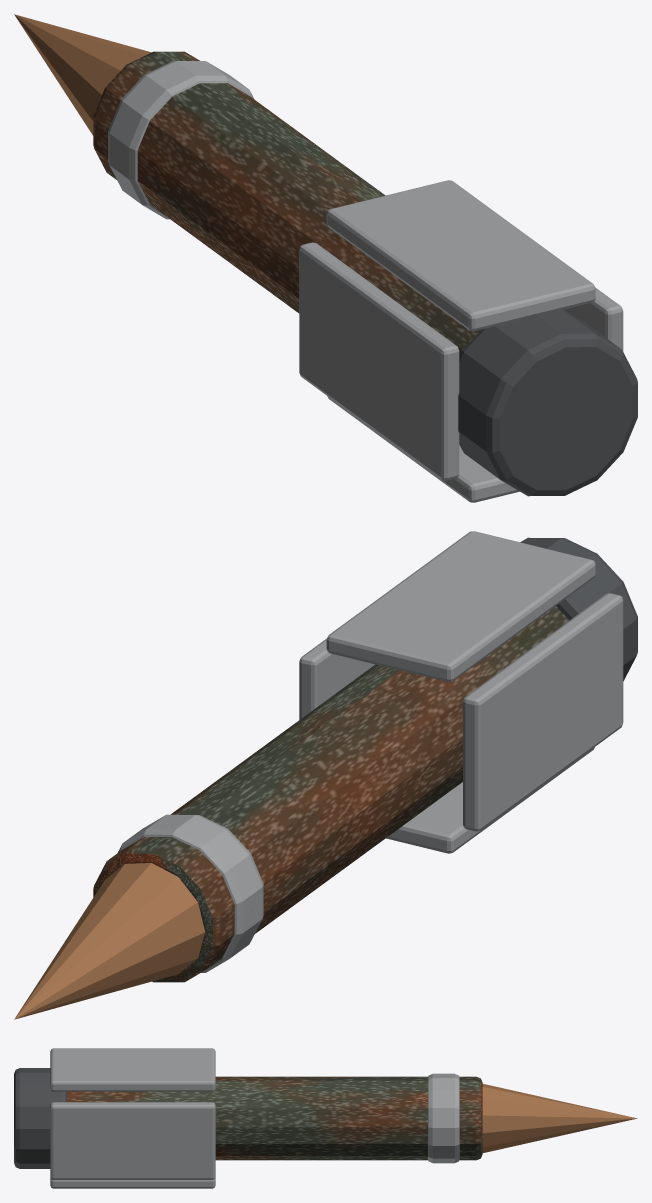
The model's file is rocket.glb.
3 renders of one model, top to bottom at view 1: azimuth 30°, elevation 25°; view 2: azimuth 150°, elevation 25°; view 3: azimuth 270°, elevation 25°, orthographic. The views are drawn at different scales.
Visible parts, largest first — view 1: Motor, Nozzle, Fin_2, Fin_1, WarheadBand, Warhead.001, Fin_3, Fin_0; view 2: Motor, Fin_2, Fin_1, Warhead.001, WarheadBand, Nozzle, Fin_3, Fin_0; view 3: Motor, Fin_0, Fin_1, Warhead.001, Nozzle, WarheadBand, Fin_3.
Part boxes in pixels (<box>): Motor: <box>93,51,481,357</box>; Nozzle: <box>458,309,637,496</box>; Fin_2: <box>299,242,459,480</box>; Fin_1: <box>326,180,595,331</box>; WarheadBand: <box>108,61,254,219</box>; Warhead.001: <box>14,14,151,135</box>; Fin_3: <box>327,396,519,502</box>; Fin_0: <box>563,287,623,351</box>; Motor: <box>93,606,569,982</box>; Fin_2: <box>463,593,623,831</box>; Fin_1: <box>326,531,595,681</box>; Warhead.001: <box>14,863,252,1019</box>; WarheadBand: <box>117,814,263,972</box>; Nozzle: <box>520,537,637,681</box>; Fin_3: <box>386,747,594,853</box>; Fin_0: <box>299,638,374,719</box>; Motor: <box>67,1076,482,1160</box>; Fin_0: <box>50,1102,215,1179</box>; Fin_1: <box>50,1048,215,1091</box>; Warhead.001: <box>443,1084,637,1152</box>; Nozzle: <box>14,1068,67,1168</box>; WarheadBand: <box>428,1073,459,1163</box>; Fin_3: <box>50,1177,215,1188</box>.
Bounding box in the file's own units: 0.122 × 0.122 × 0.6425.
4 materials, 1 textured.
